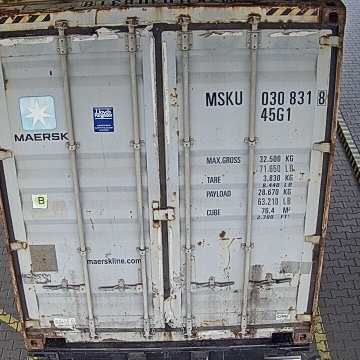serial_id: (206, 90, 327, 105)
